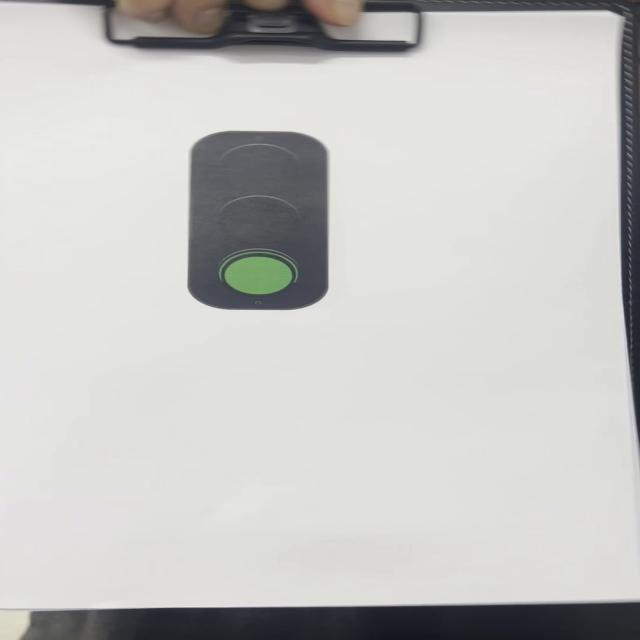green: (182, 133, 329, 314)
